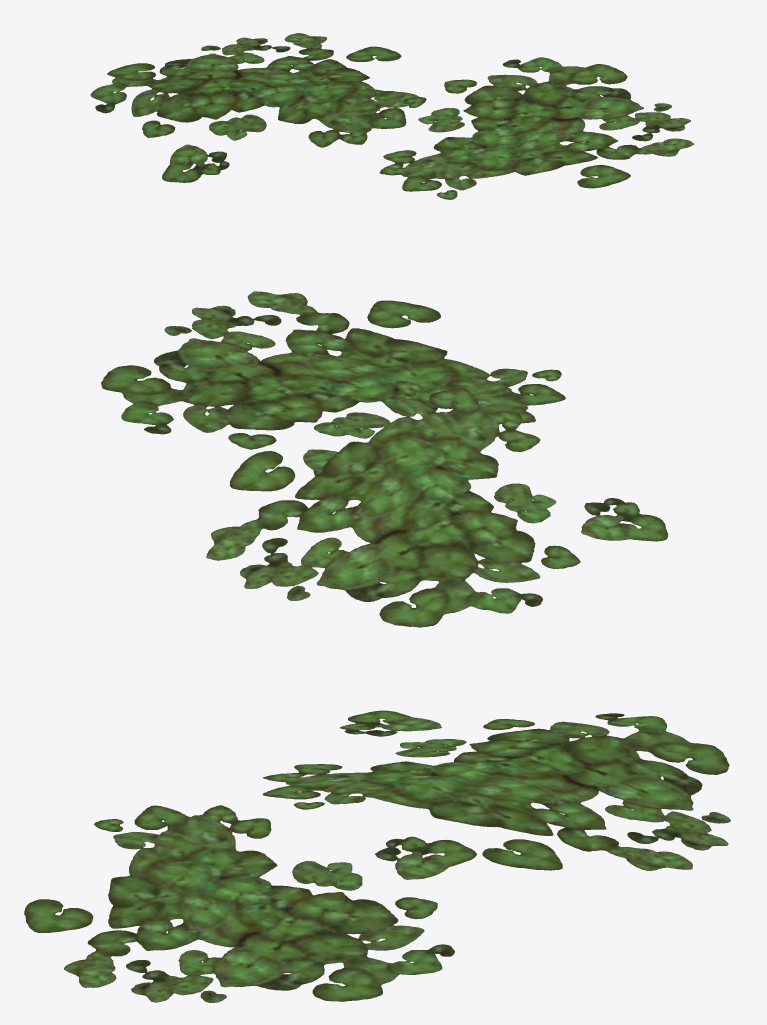
Rendered from frst_ptch_clover_green_lg_l1.fbx.
3 renders of one model, top to bottom at view 1: azimuth 30°, elevation 25°; view 2: azimuth 150°, elevation 25°; view 3: azimuth 270°, elevation 25°, orthographic. The views are drawn at different scales.
Visible parts, largest first — view 1: mesh_node; view 2: mesh_node; view 3: mesh_node.
Boxes of the visible parts, box(x1,y1,x2,y2) form: mesh_node: box(90, 33, 694, 199); mesh_node: box(101, 291, 668, 627); mesh_node: box(24, 710, 730, 1002).
Bounding box in the file's own units: 3.1 × 0.362 × 2.94.
Materials: 1 (1 with a texture image).
